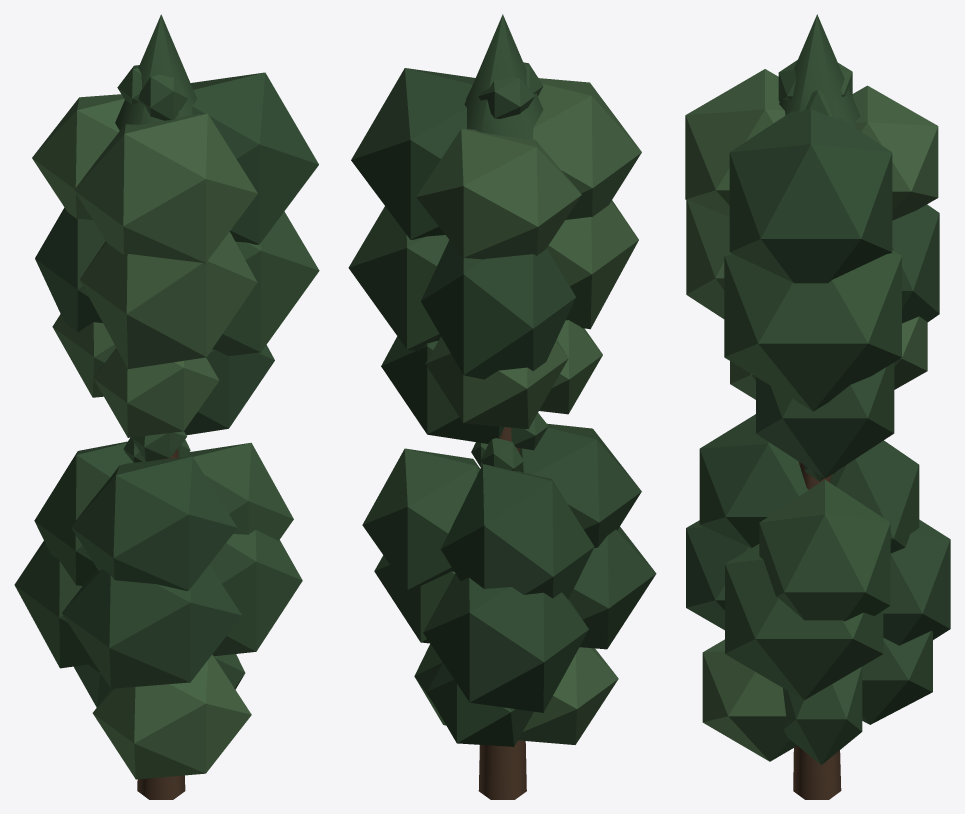
The model's file is tree_cypress_low.glb.
The picture shows the model from 3 angles, left to right: view 1: azimuth 30°, elevation 25°; view 2: azimuth 150°, elevation 25°; view 3: azimuth 270°, elevation 25°; orthographic projection.
Bounding box in the file's own units: 2.68 × 8.57 × 2.65.
